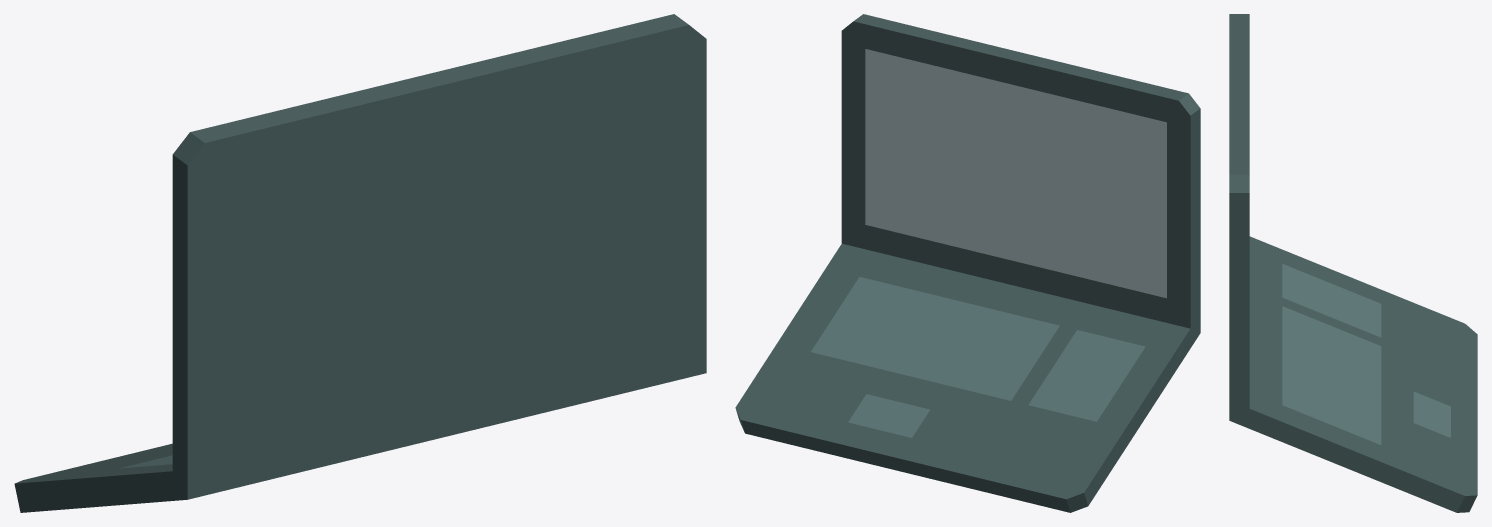
The model's file is device-laptop.glb.
3 renders of one model, left to right at view 1: azimuth 30°, elevation 25°; view 2: azimuth 150°, elevation 25°; view 3: azimuth 270°, elevation 25°, orthographic. The views are drawn at different scales.
Visible parts, largest first — view 1: laptop; view 2: laptop; view 3: laptop.
Part boxes in pixels (bbox=[...]): laptop: bbox=[14, 14, 706, 512]; laptop: bbox=[735, 14, 1200, 512]; laptop: bbox=[1229, 14, 1477, 512].
Size of the model in its own units: 0.5198 by 0.4742 by 0.3164.
